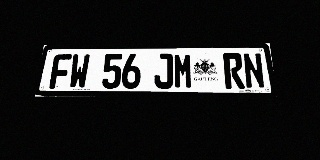5: (102, 54, 123, 89)
6: (121, 54, 141, 89)
F: (49, 54, 72, 89)
J: (154, 53, 173, 89)
M: (174, 53, 193, 89)
N: (242, 53, 266, 89)
R: (223, 53, 245, 89)
W: (68, 54, 90, 89)
